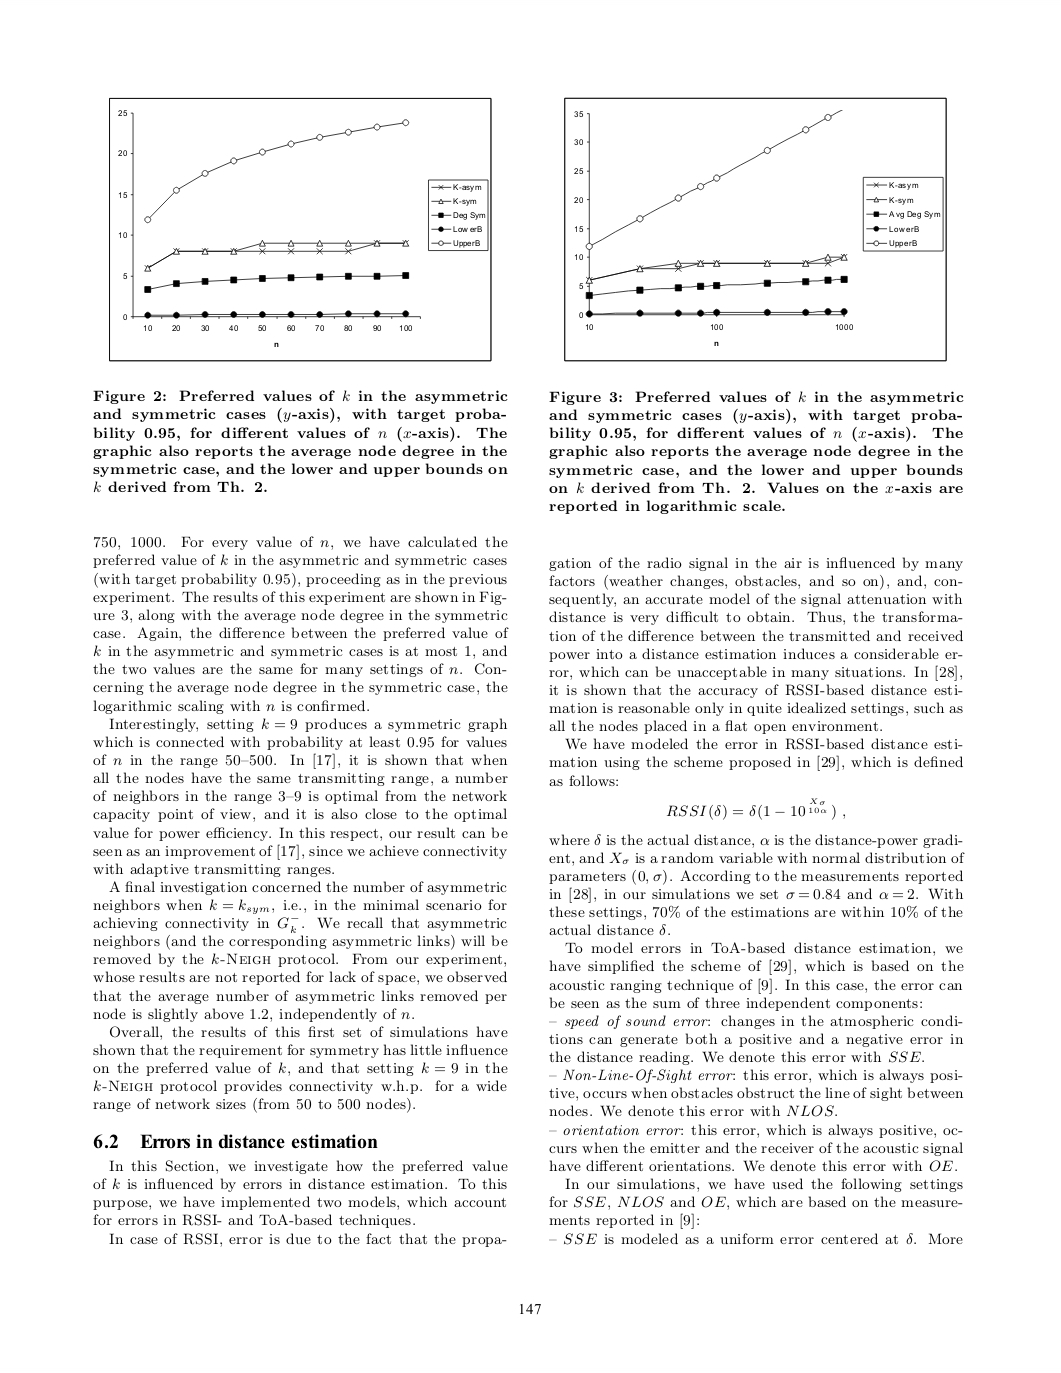figure: (109, 96, 491, 362), (564, 96, 946, 362)
formula: (666, 797, 844, 820)
